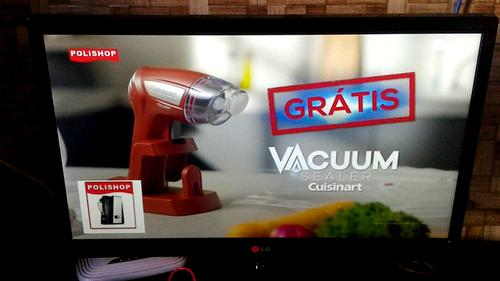Polishop #1: (77, 181, 145, 233)
